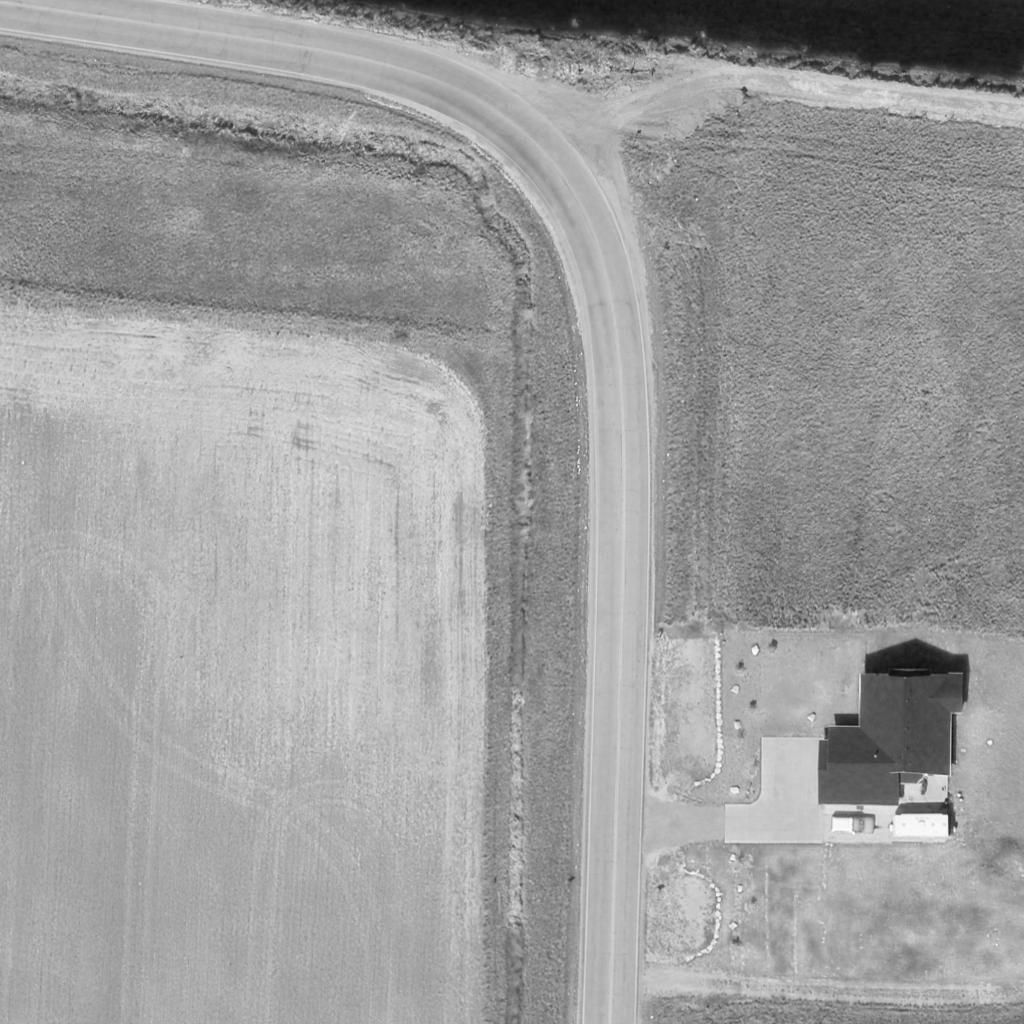vehicle: (892, 817, 952, 839), (830, 817, 878, 835)
